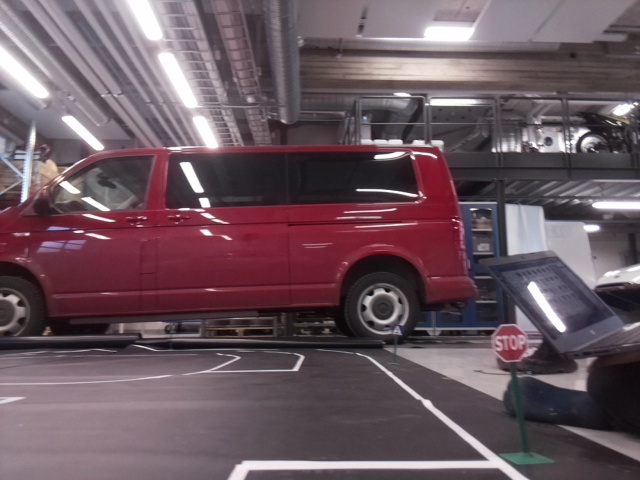Crosswalk: (392, 325, 404, 336)
Stop: (490, 324, 528, 362)
